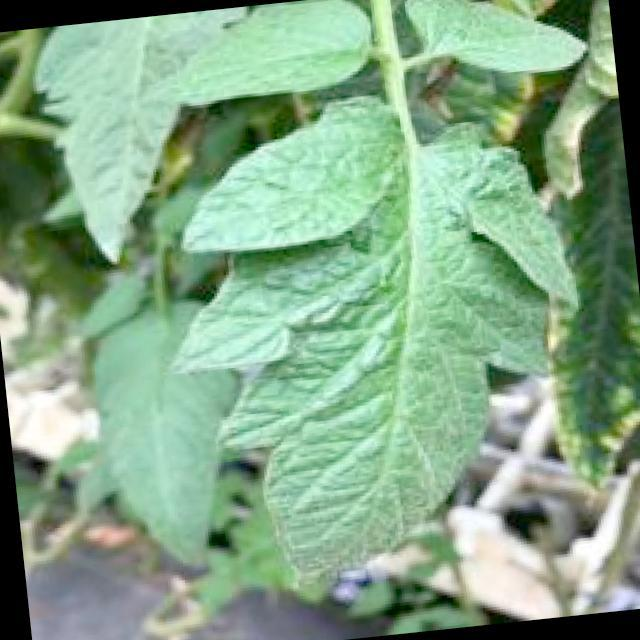Tomato healthy leaf: (181, 104, 550, 609), (33, 6, 242, 260), (91, 302, 241, 575), (188, 0, 372, 106), (407, 0, 588, 76)
